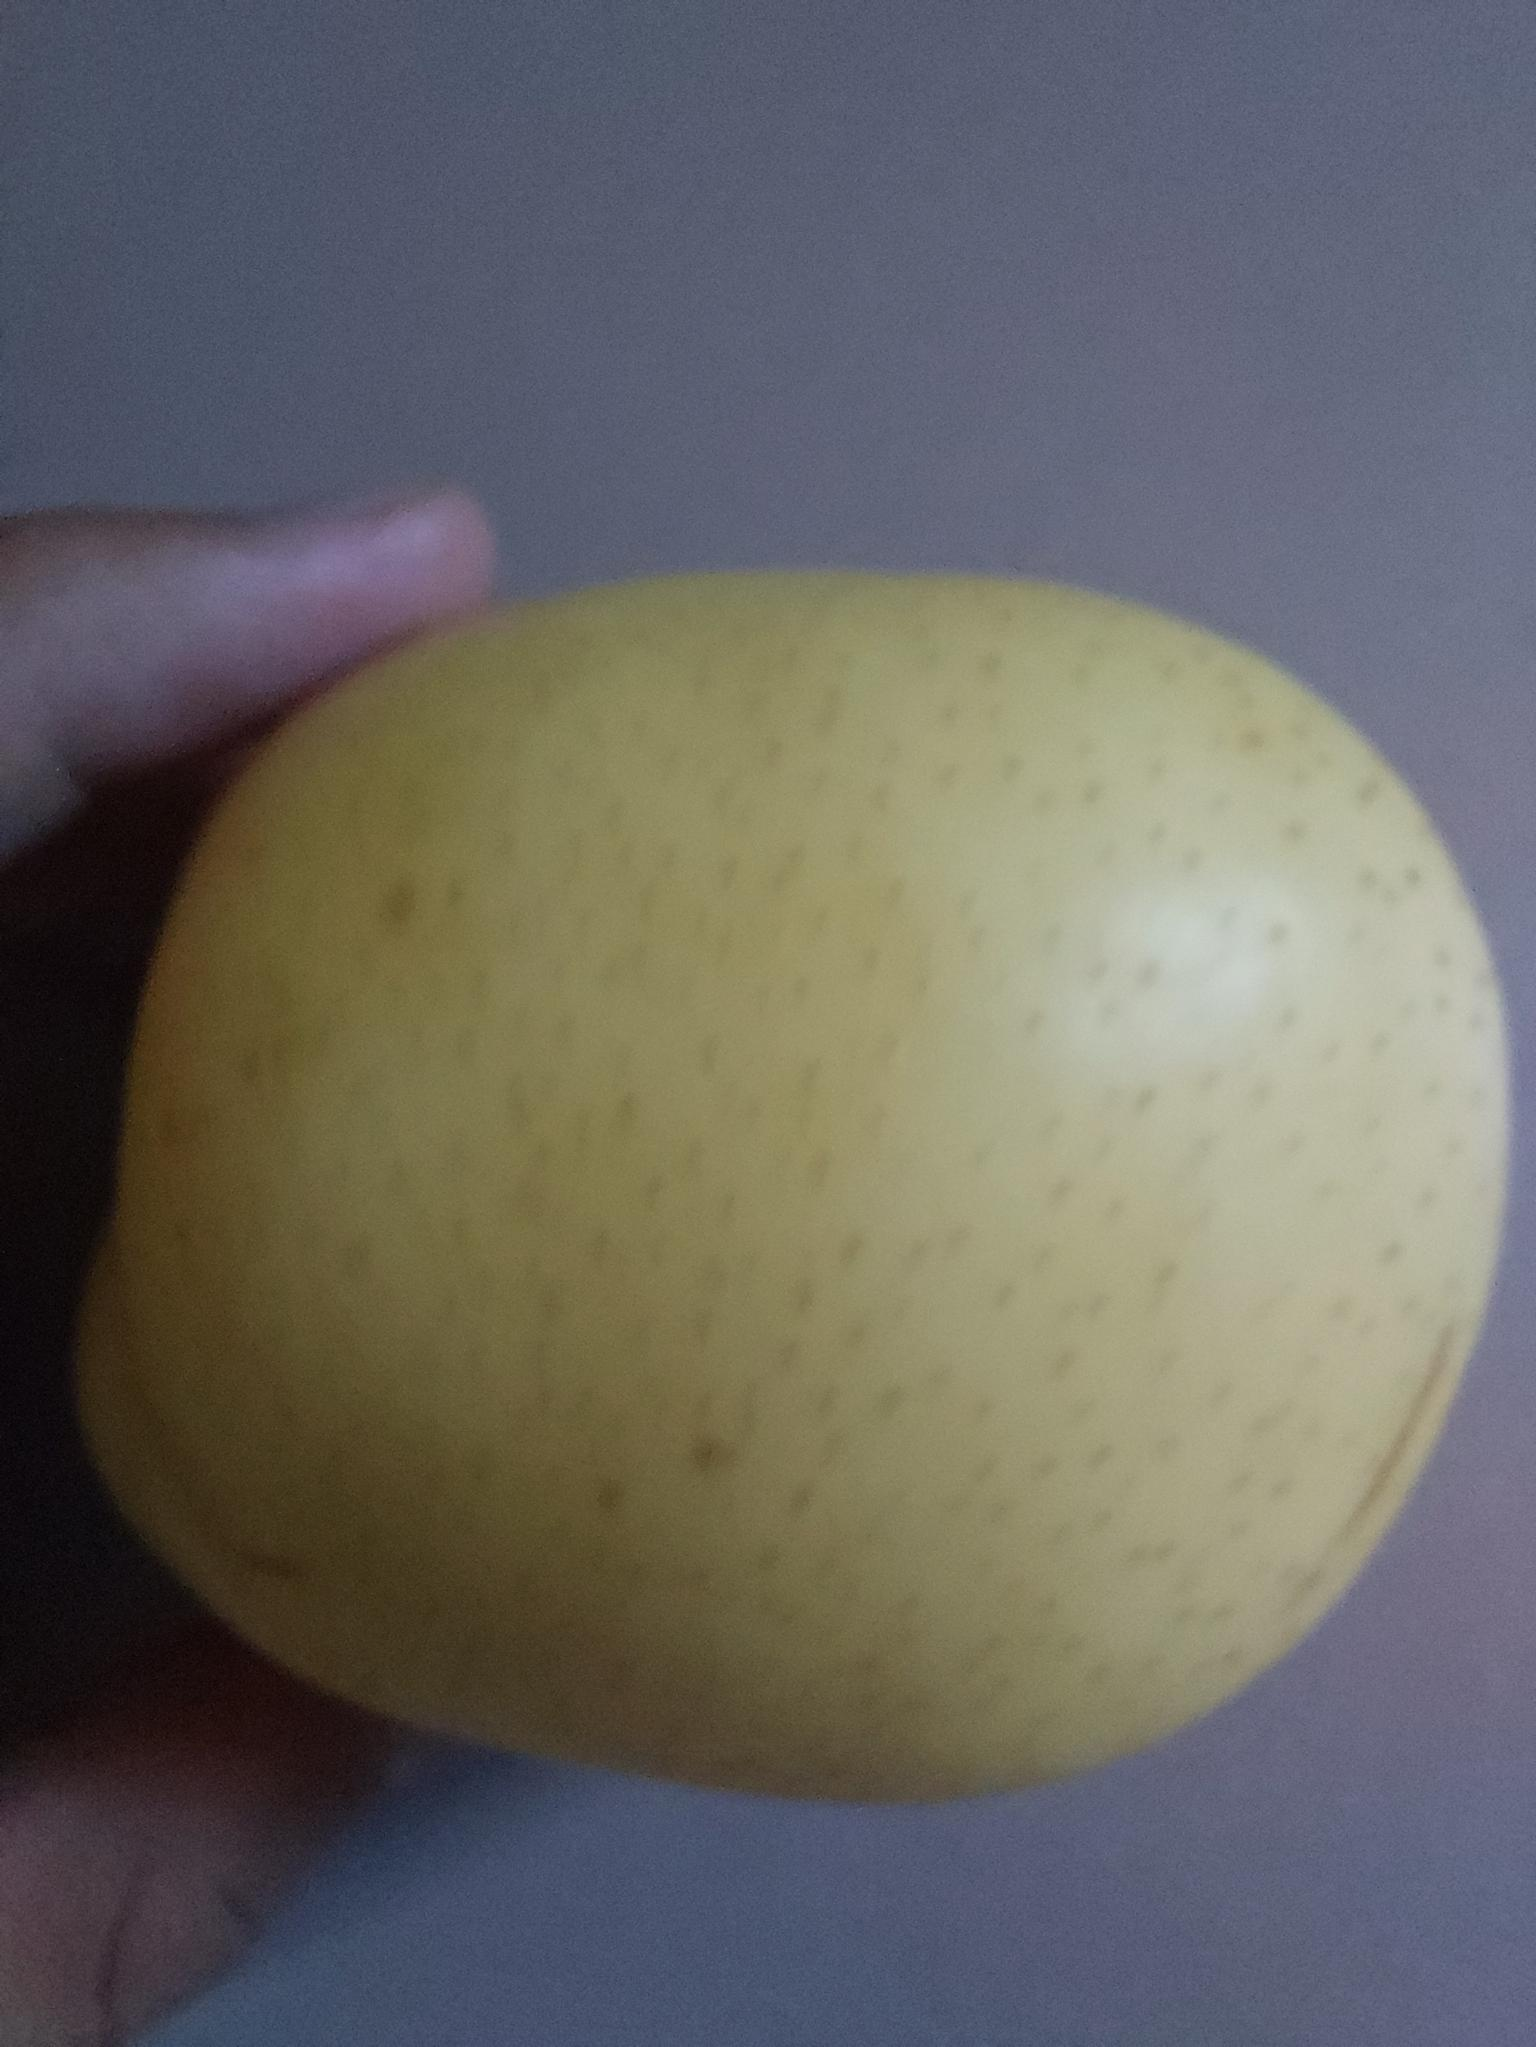Good Pear: (258, 625, 1536, 1801)
